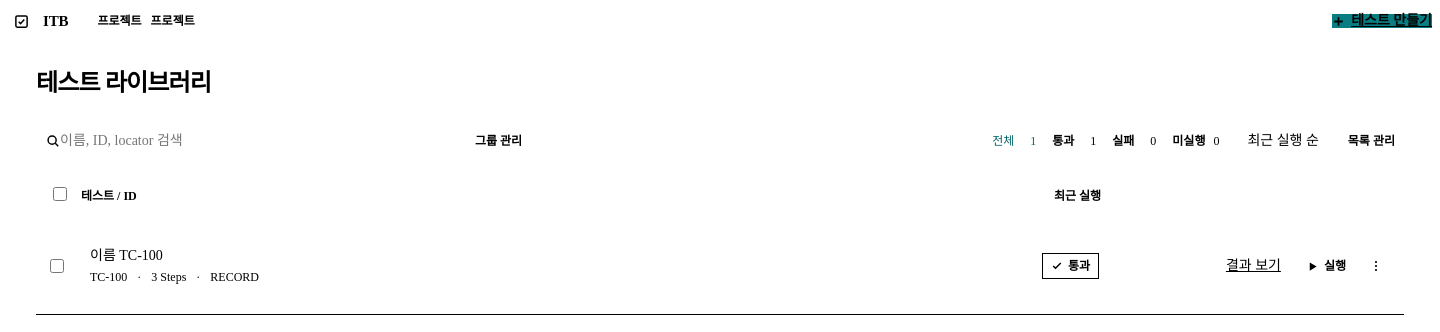
Scenario: 결말 필터 (FR-272 · DC-007) › 고른 결말이 하나도 없으면 그 사실을 말한다
Expected: the text "이름 TC-100" is shown, [90,248,163,263]
Click the button "실패 0" at (1134, 141), box [1104,124,1164,158]
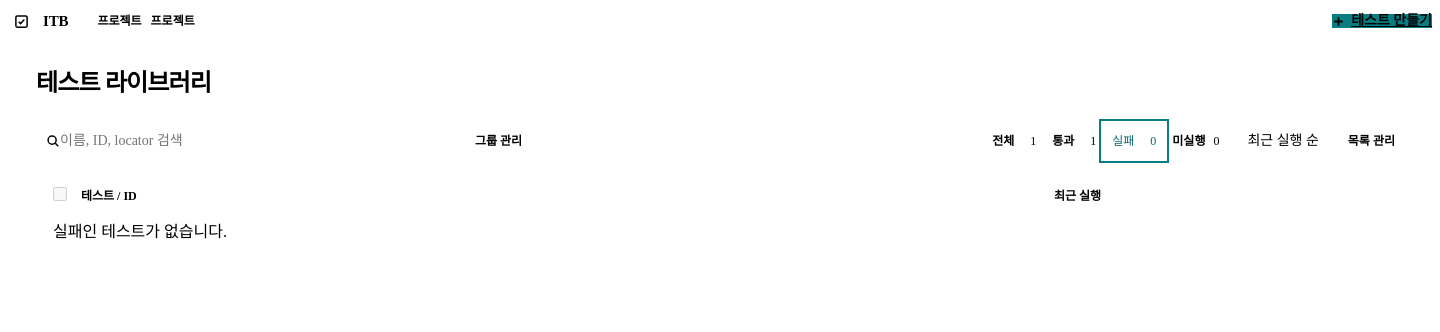
Result: the text "실패인 테스트가 없습니다." is shown at [53,223,227,240]
